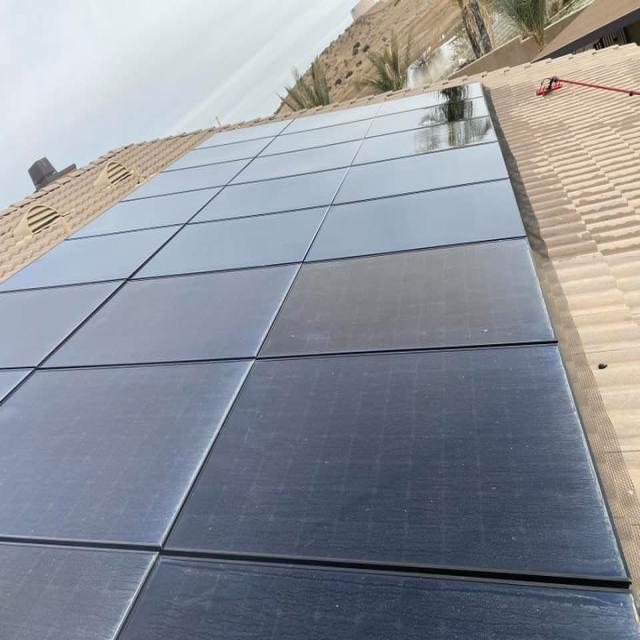Surface Contaminant: (254, 238, 555, 358)
